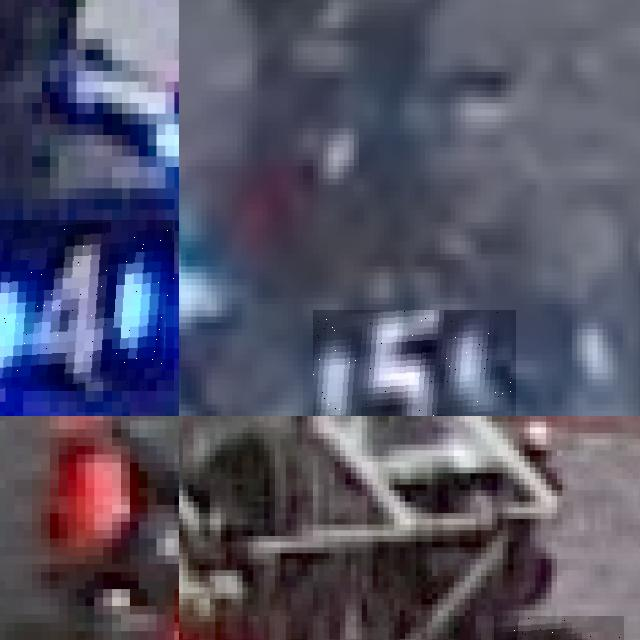B4: (0, 220, 174, 390)
B5: (313, 310, 516, 416)
R1: (494, 616, 624, 640)
